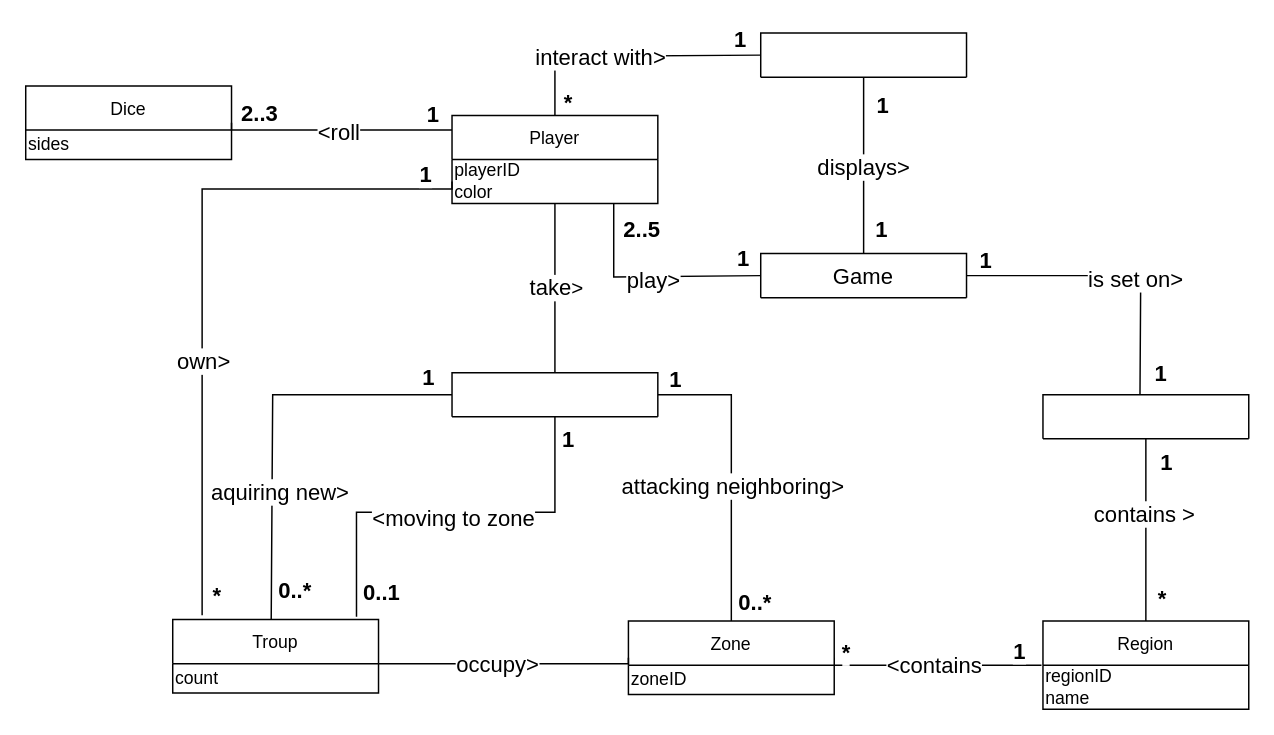
The diagram is 1274 pixels wide and 735 high, and some of its shapes have lost their labels. The centre of each missing label's shape, as x and y in pixels:
Gameboard: point (1145, 416)
Turn: point (554, 394)
User Interface: point (863, 54)
